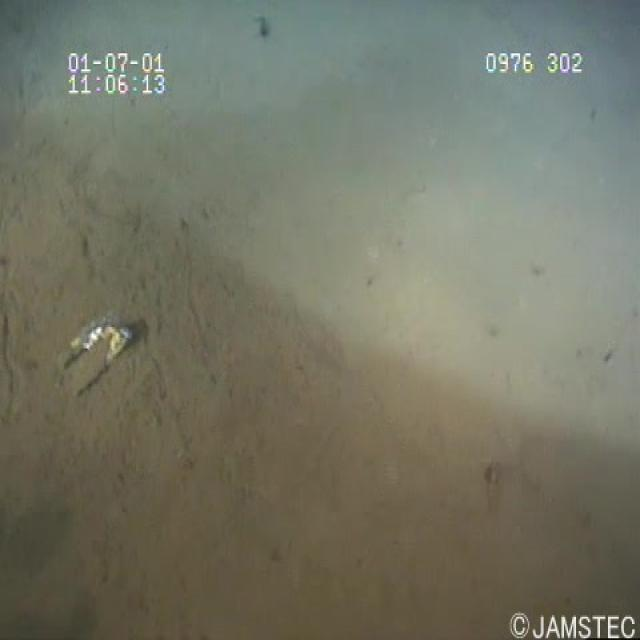plastic: (48, 304, 144, 402)
